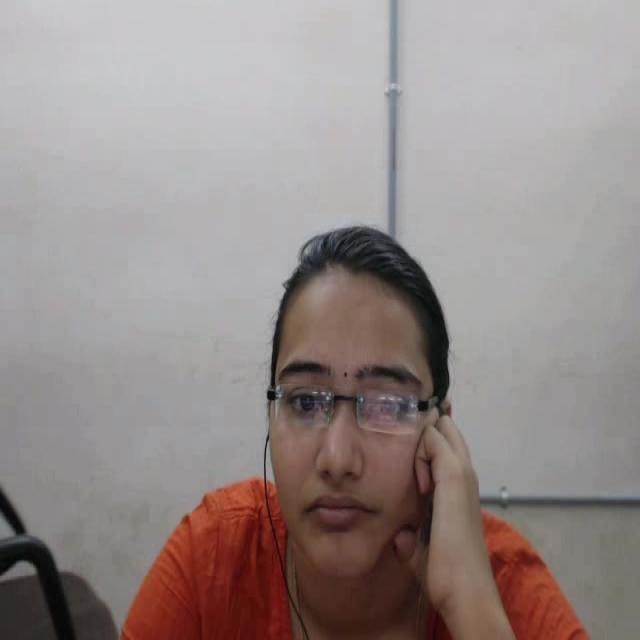Bored: (226, 187, 490, 620)
